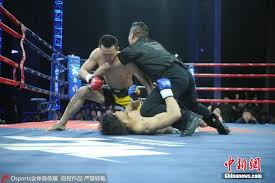fall: (96, 87, 206, 136)
